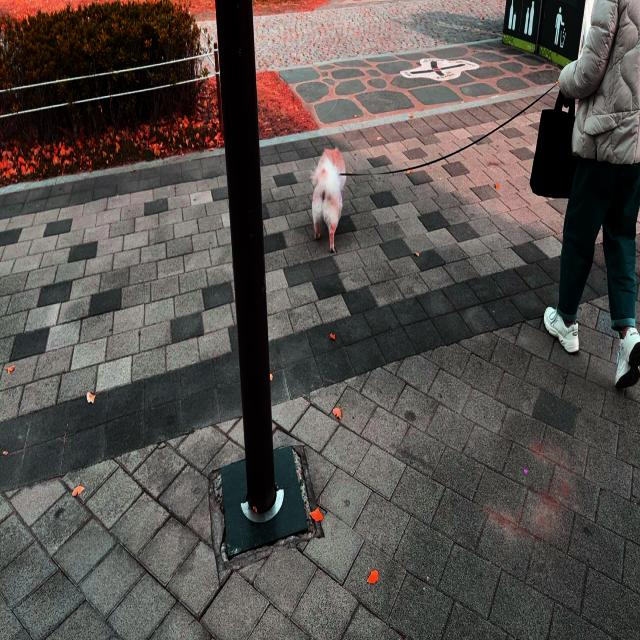Leashed_Dog: (311, 83, 602, 254)
